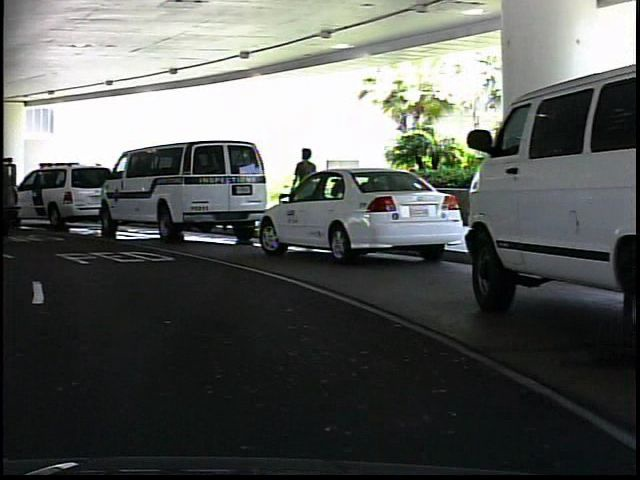person: (285, 144, 318, 230)
